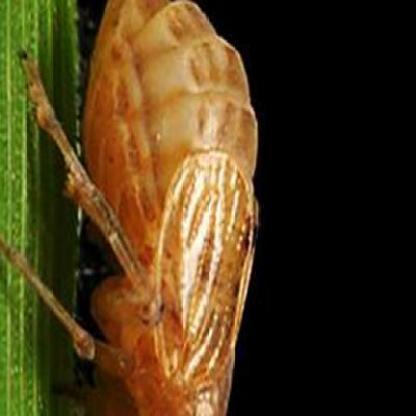brown-planthopper: (70, 0, 258, 416)
